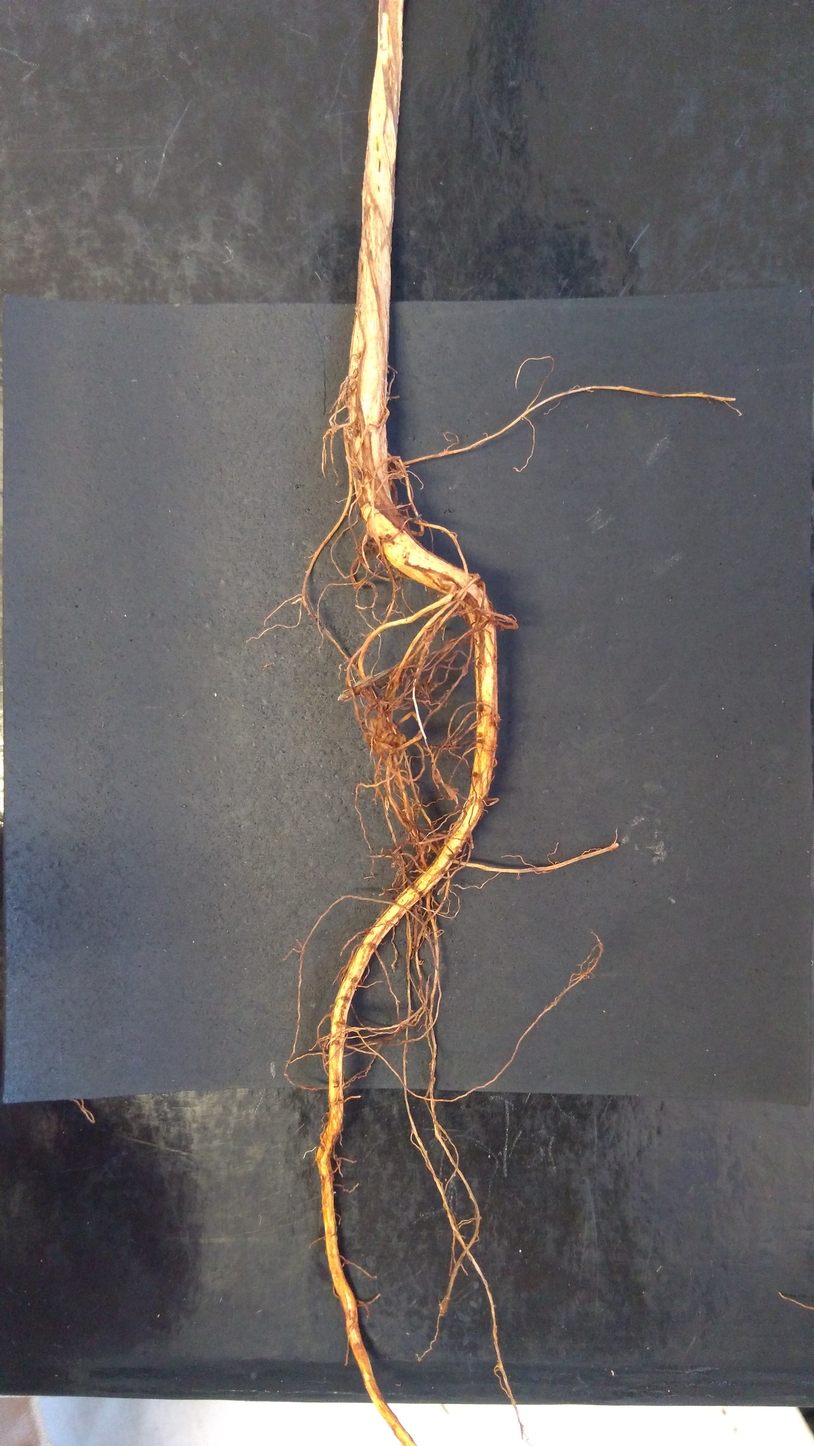nodule: (365, 717, 407, 757), (363, 535, 381, 560), (389, 665, 405, 686), (371, 695, 388, 711), (419, 681, 433, 698), (340, 380, 351, 398), (352, 465, 365, 480), (416, 844, 429, 859), (342, 425, 354, 440), (433, 770, 442, 785), (326, 425, 338, 436), (461, 663, 468, 676), (472, 573, 480, 582), (468, 843, 475, 849)
